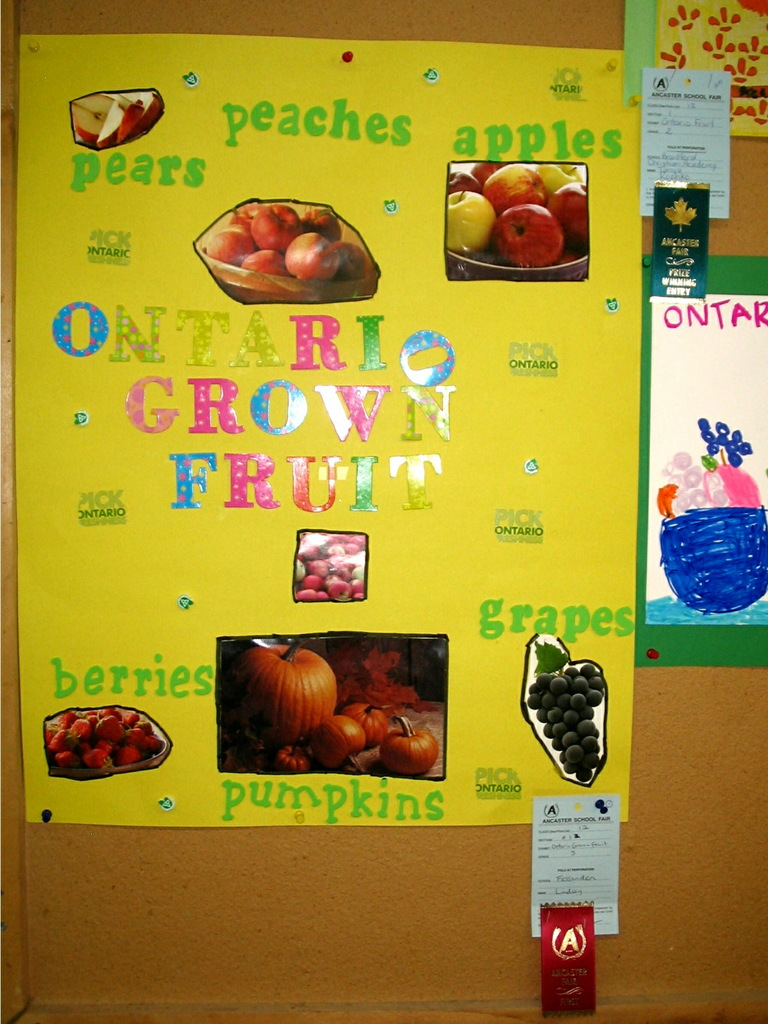Apple: (436, 165, 580, 267), (208, 201, 370, 277), (74, 91, 117, 142), (96, 94, 131, 140), (110, 96, 142, 142), (137, 91, 165, 129)
